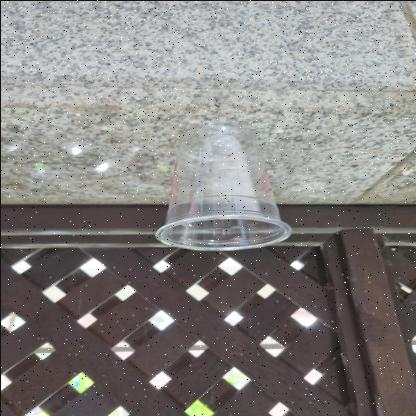Others: (156, 119, 294, 255)
